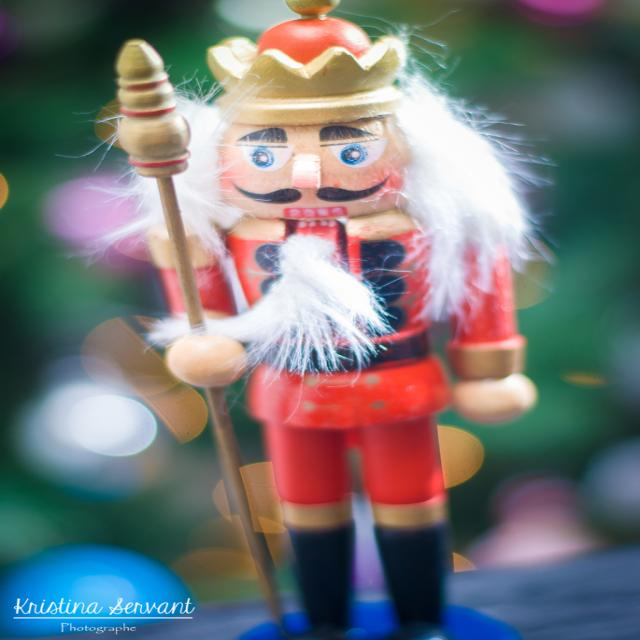Toy: (61, 0, 584, 640)
